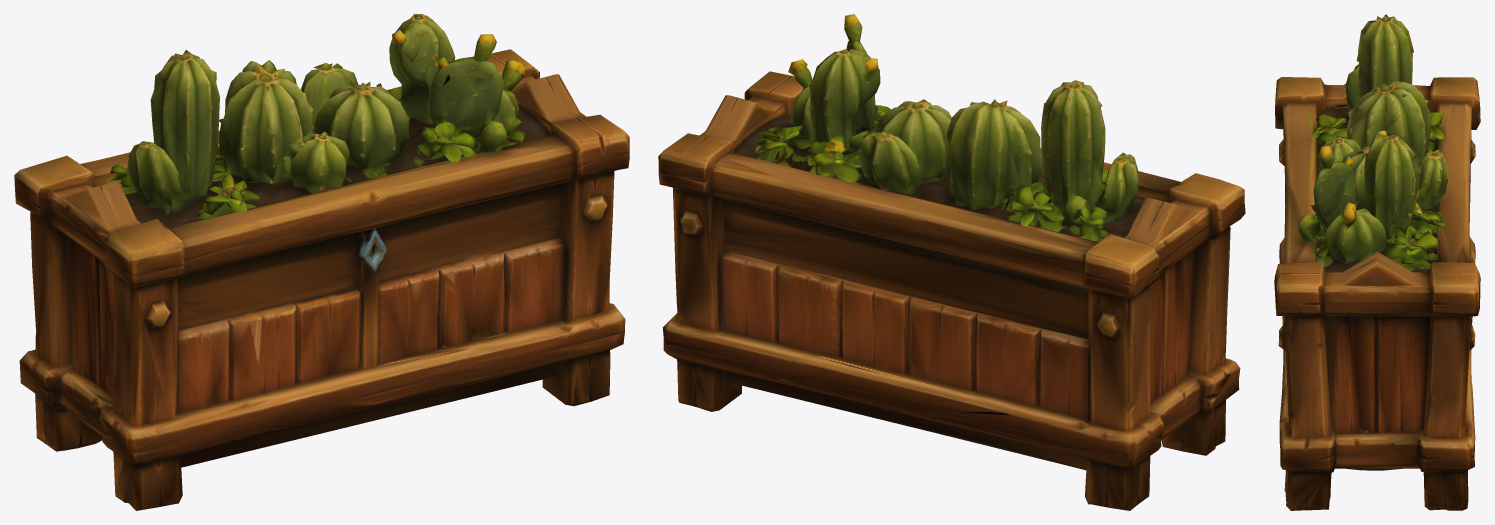
File: macetero_de_madera.glb
3 renders of one model, left to right at view 1: azimuth 30°, elevation 25°; view 2: azimuth 150°, elevation 25°; view 3: azimuth 270°, elevation 25°, orthographic. The views are drawn at different scales.
Parts seen in each view (by area): view 1: macetero_de_madera; view 2: macetero_de_madera; view 3: macetero_de_madera.
Boxes of the visible parts, x1=… form: macetero_de_madera: x1=14, y1=14, x2=629, y2=510; macetero_de_madera: x1=658, y1=14, x2=1245, y2=510; macetero_de_madera: x1=1274, y1=14, x2=1480, y2=510.
Size of what is drawn, in the model's own units: 0.8034 by 0.6 by 0.3304.
Materials: 1 (1 with a texture image).
